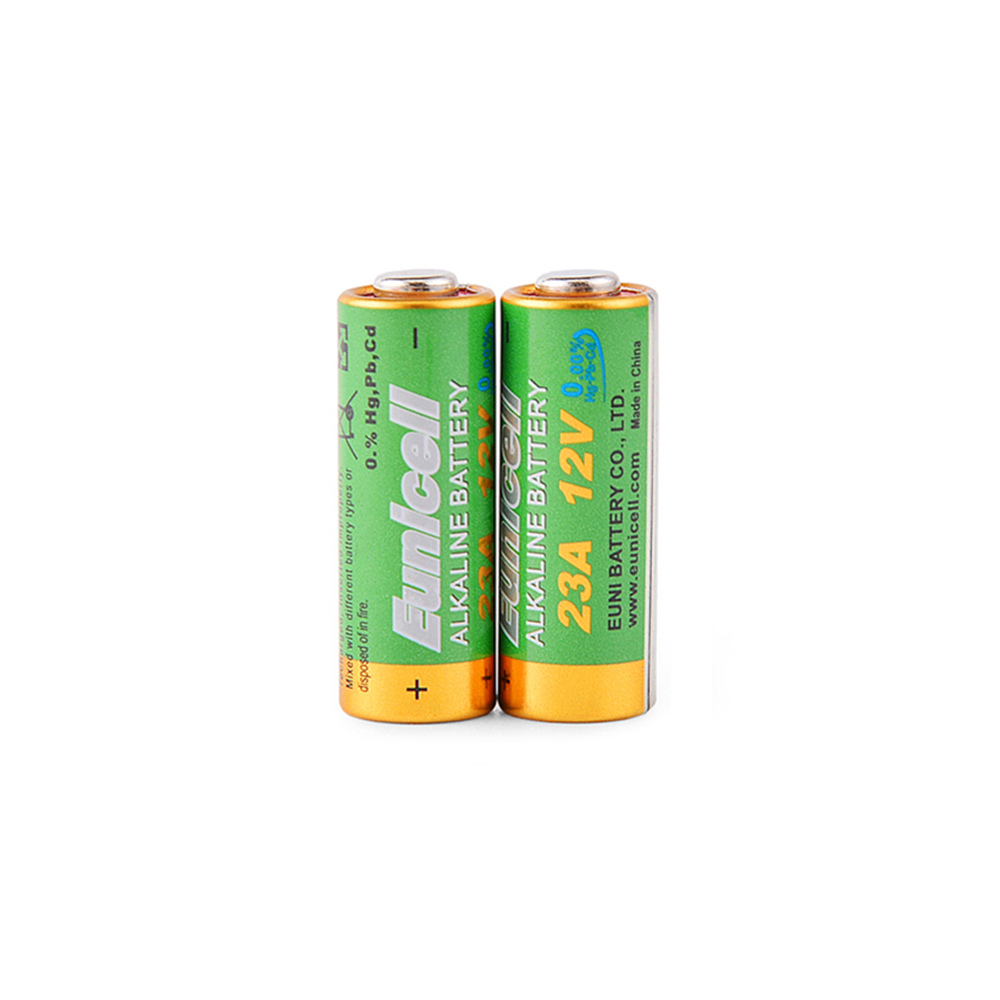Battery: (498, 263, 665, 726), (332, 264, 496, 726)
